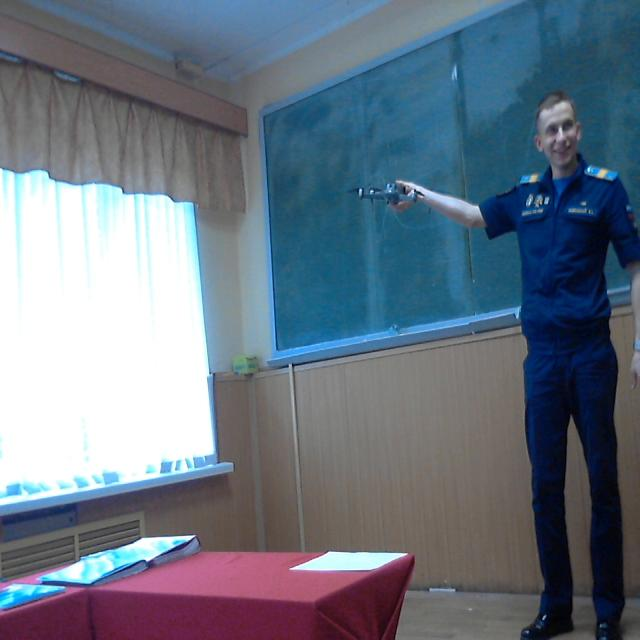drone: (337, 144, 439, 218)
